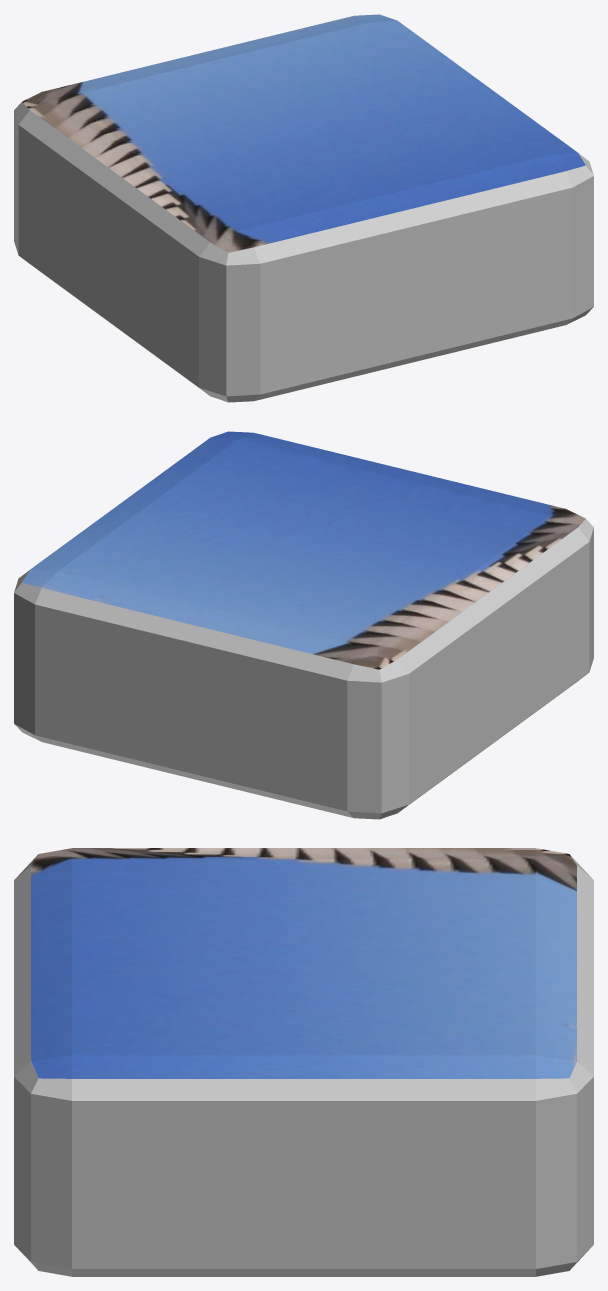
File: peça3.obj
The picture shows the model from 3 angles, top to bottom: view 1: azimuth 30°, elevation 25°; view 2: azimuth 150°, elevation 25°; view 3: azimuth 270°, elevation 25°; orthographic projection. The views are drawn at different scales.
Parts seen in each view (by area): view 1: Cubo.006; view 2: Cubo.006; view 3: Cubo.006.
Part boxes in pixels (x1,y1,x2,y2): Cubo.006: [14, 14, 593, 402]; Cubo.006: [14, 431, 593, 819]; Cubo.006: [14, 848, 593, 1276].
Size of the model in its own units: 0.5 by 0.2 by 0.5.
